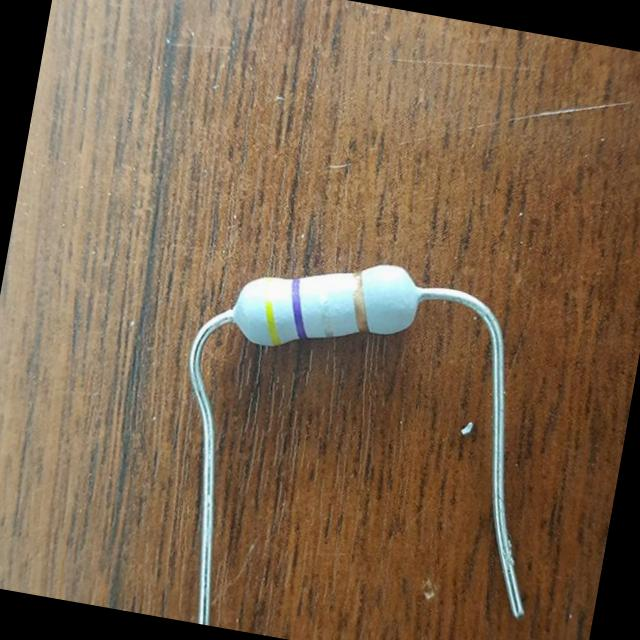Resistor: (234, 265, 420, 345)
gold: (350, 273, 369, 337)
purple: (291, 277, 305, 343)
silver: (314, 273, 331, 339)
yellow: (262, 276, 279, 351)
